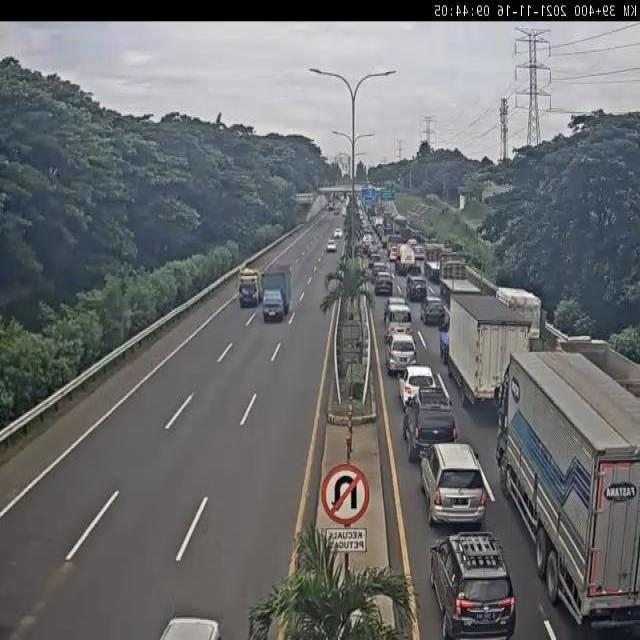Car: (428, 529, 515, 640), (419, 441, 488, 527), (404, 394, 458, 463), (396, 364, 438, 409), (386, 332, 418, 376), (420, 297, 446, 326), (406, 274, 427, 302), (374, 273, 394, 297), (330, 227, 344, 242), (327, 240, 337, 253), (328, 204, 334, 212)
Truck: (500, 347, 640, 627), (447, 291, 535, 412), (262, 260, 296, 324), (234, 266, 261, 312), (374, 220, 385, 240), (383, 213, 394, 233)
